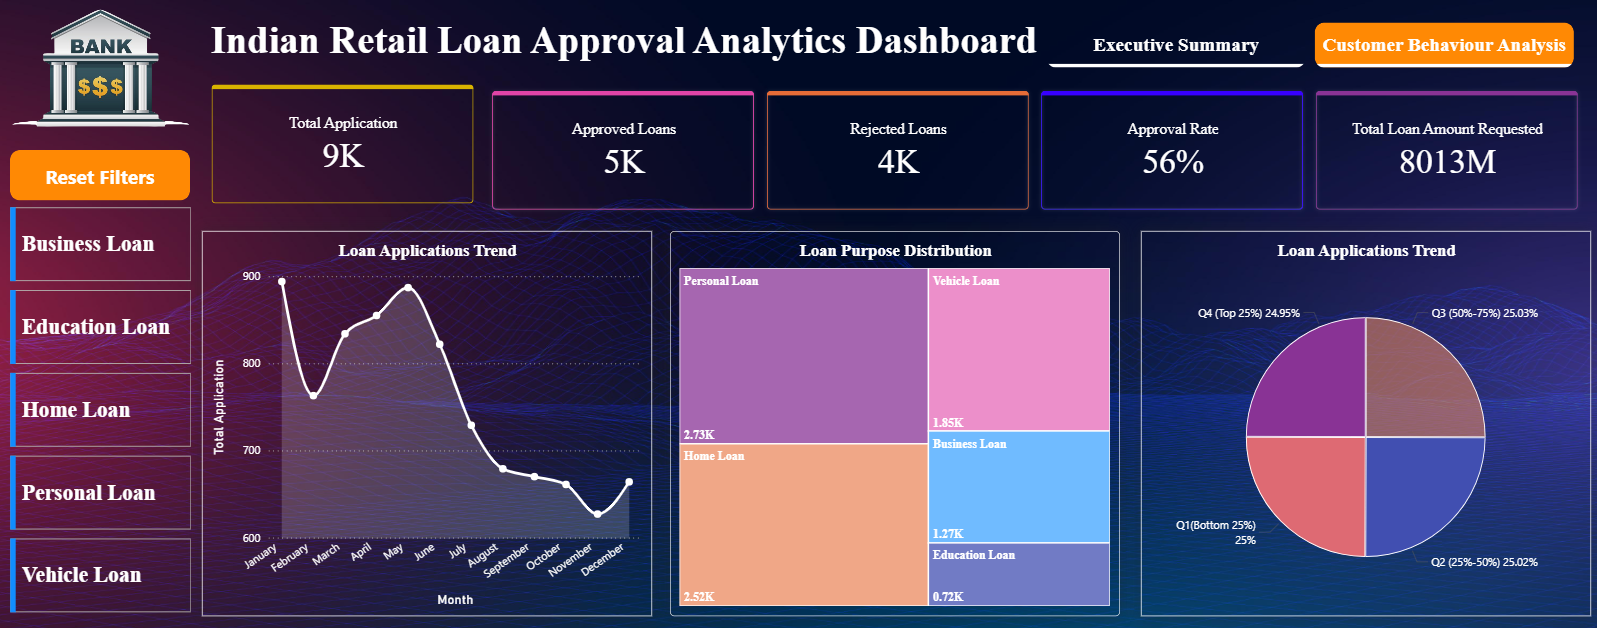

The page's visual inventory and layout, read from the dashboard file:
{"tool":"powerbi","page":{"name":"Executive Summary","canvas":[1780,700],"ordinal":0},"visuals":[{"type":"textbox","box":[226,0,938,96],"z":0},{"type":"cardVisual","fields":{"Data":["Loan_approval_dataset (1) csv.Total Application","Loan_approval_dataset (1) csv.Approved Loans","Loan_approval_dataset (1) csv.Rejected Loans","Loan_approval_dataset (1) csv.Approval Rate","Sum(Loan_approval_dataset (1) csv.loan_amount)"]},"box":[220,76,1560,180],"z":1000},{"type":"lineChart","title":"Loan Applications Trend","fields":{"Category":["Loan_approval_dataset (1) csv.application_date.Variation.Date Hierarchy.Month"],"Y":["Loan_approval_dataset (1) csv.Total Application"]},"box":[226,256,500,428],"z":2000},{"type":"treemap","title":"Loan Purpose Distribution ","fields":{"Group":["Loan_approval_dataset (1) csv.loan_purpose"],"Values":["CountNonNull(Loan_approval_dataset (1) csv.applicant_id)"]},"box":[746,256,500,428],"z":3000},{"type":"advancedSlicerVisual","fields":{"Values":["Loan_approval_dataset (1) csv.loan_purpose"]},"box":[8.3,225,211.7,460],"z":4000},{"type":"pieChart","title":"Loan Applications Trend","fields":{"Category":["Loan_approval_dataset (1) csv.Loan Quartile"],"Y":["CountNonNull(Loan_approval_dataset (1) csv.Loan Rank)"]},"box":[1270,256,500,428],"z":6000},{"type":"image","box":[8,0,212,150],"z":7000},{"type":"actionButton","box":[14,166,200,56],"z":8001},{"type":"pageNavigator","box":[1165,25,587.5,50],"z":8002}]}

Visuals, with their boxes in screenshot pixels (x1, y1, x2, y2), scaled from the page's 1780x700 canvas onto the 1597x628 screenshot:
textbox: rect(203, 0, 1044, 86)
cardVisual - Loan_approval_dataset (1) csv.Total Application x Loan_approval_dataset (1) csv.Approved Loans: rect(197, 68, 1596, 230)
"Loan Applications Trend" lineChart: rect(203, 230, 651, 614)
"Loan Purpose Distribution " treemap: rect(669, 230, 1118, 614)
advancedSlicerVisual - Loan_approval_dataset (1) csv.loan_purpose: rect(7, 202, 197, 615)
"Loan Applications Trend" pieChart: rect(1139, 230, 1588, 614)
image: rect(7, 0, 197, 135)
actionButton: rect(13, 149, 192, 199)
pageNavigator: rect(1045, 22, 1572, 67)
